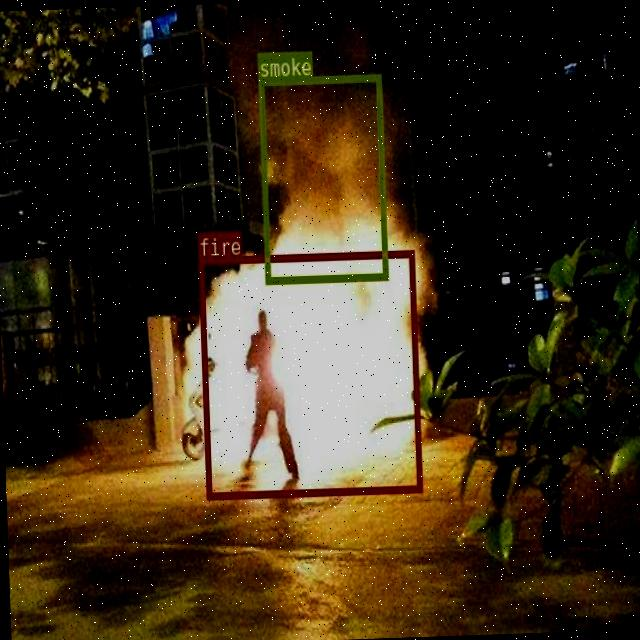fire: (198, 250, 422, 498)
smoke: (257, 73, 386, 282)
